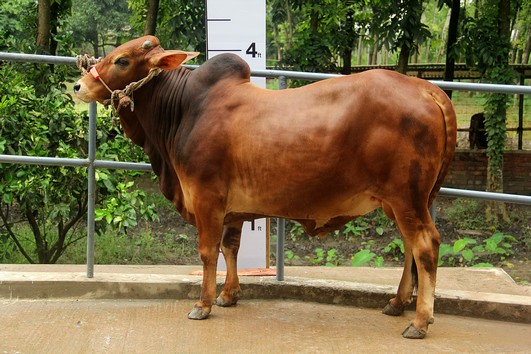cow: (66, 26, 461, 339)
